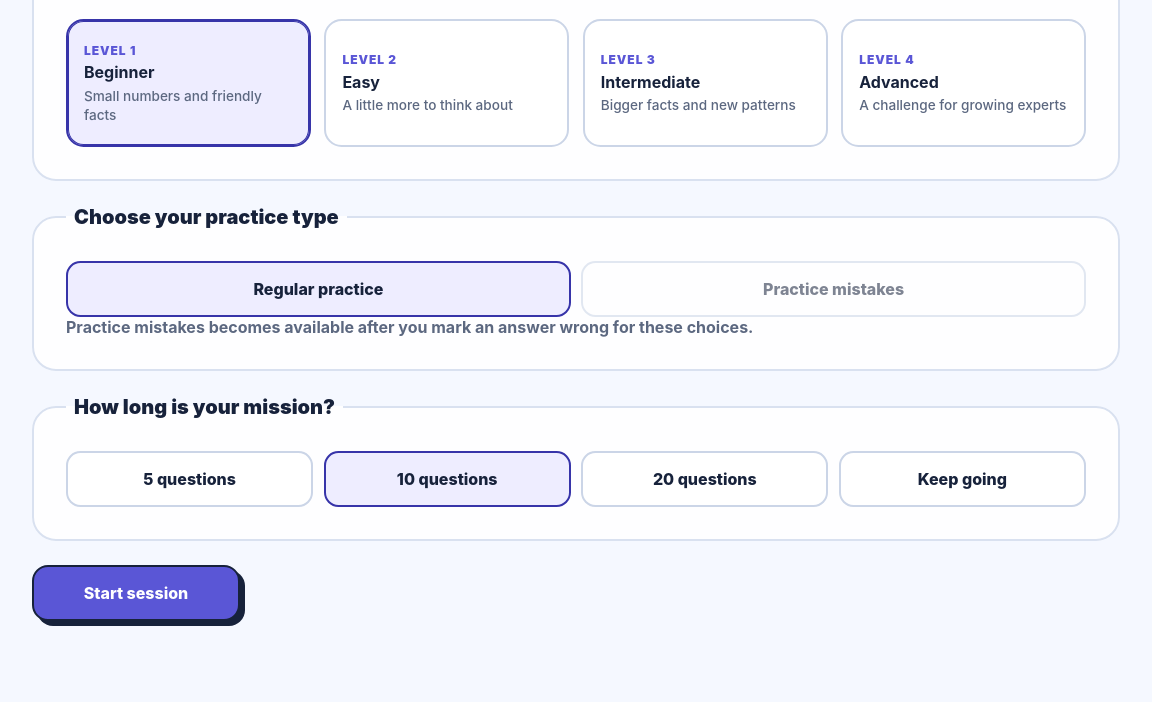
Test case: PracticePage › starts from setup and immediately saves a recoverable session
(page scrolled)
Click the button "Start session".
click(136, 593)  # box [32,565,240,621]
(page scrolled)
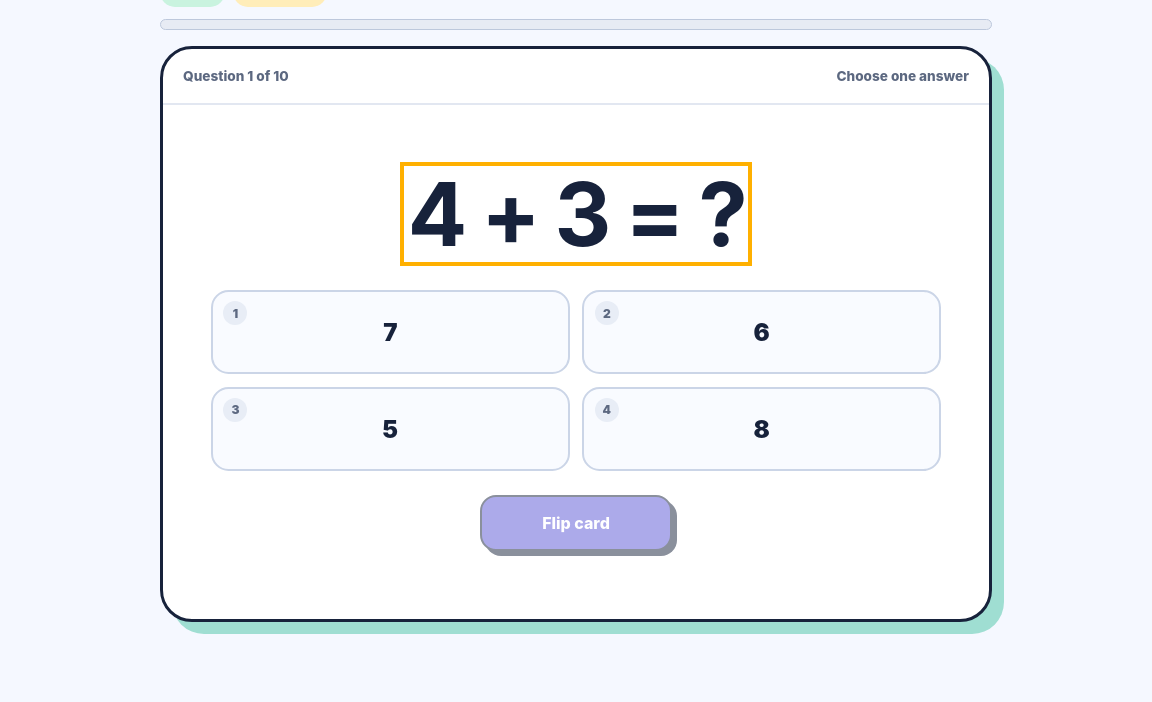
Now the element "Question 1 of 10" is shown, box [160,46,992,622]
